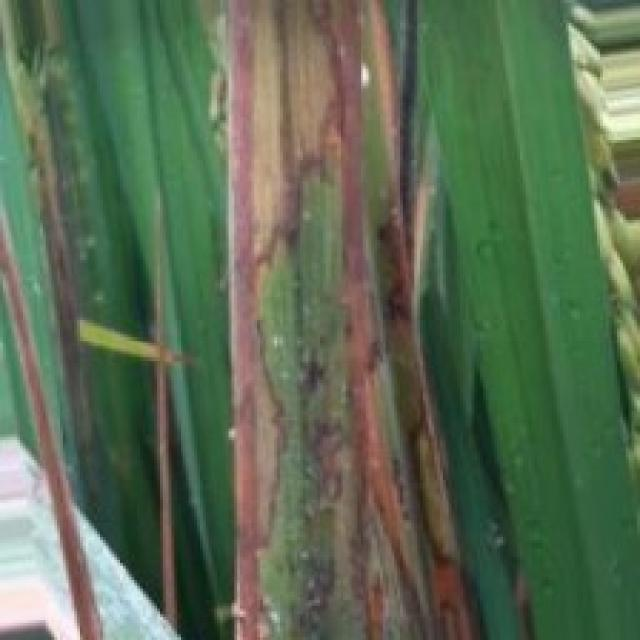Bacterial_Blight: (328, 33, 433, 640), (197, 0, 329, 291), (212, 310, 304, 640), (309, 416, 365, 509)
